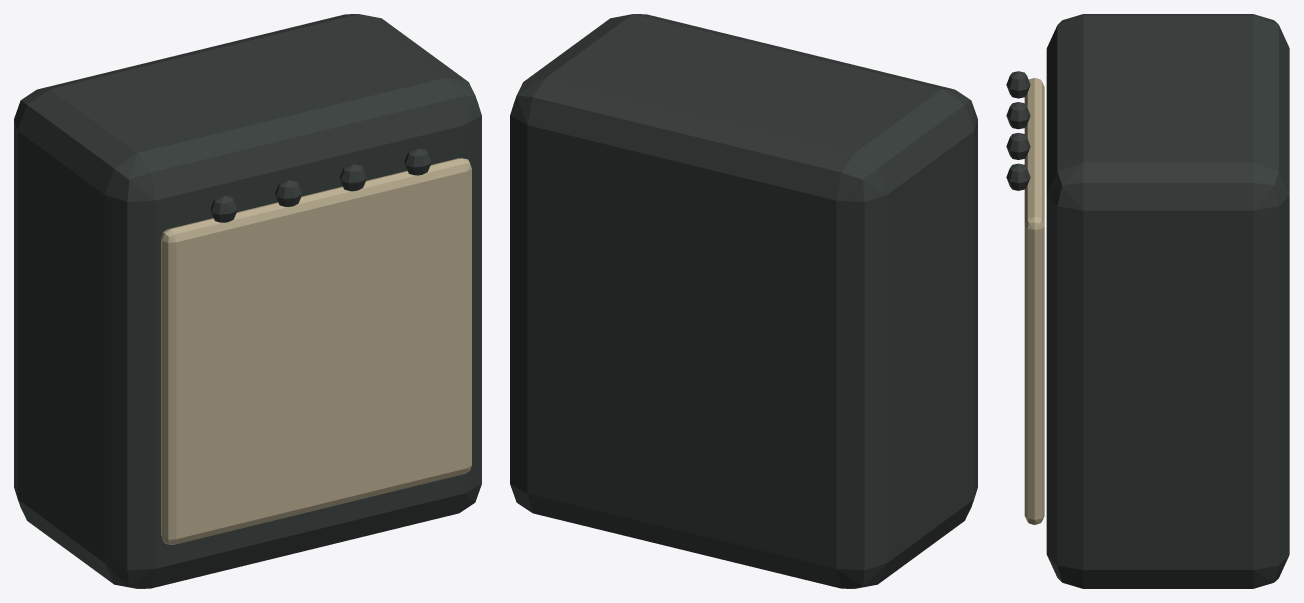
The model's file is SM_RelaxedNeighborHouse_Amplifier.fbx.
3 renders of one model, left to right at view 1: azimuth 30°, elevation 25°; view 2: azimuth 150°, elevation 25°; view 3: azimuth 270°, elevation 25°, orthographic. The views are drawn at different scales.
Visible parts, largest first — view 1: SM_RelaxedNeighborHouse_Amplifier; view 2: SM_RelaxedNeighborHouse_Amplifier; view 3: SM_RelaxedNeighborHouse_Amplifier.
Boxes of the visible parts, bbox=[...] form: SM_RelaxedNeighborHouse_Amplifier: bbox=[14, 14, 481, 588]; SM_RelaxedNeighborHouse_Amplifier: bbox=[510, 14, 977, 588]; SM_RelaxedNeighborHouse_Amplifier: bbox=[1006, 14, 1289, 588].
Size of what is drawn, in the model's own units: 52 by 35 by 58.
